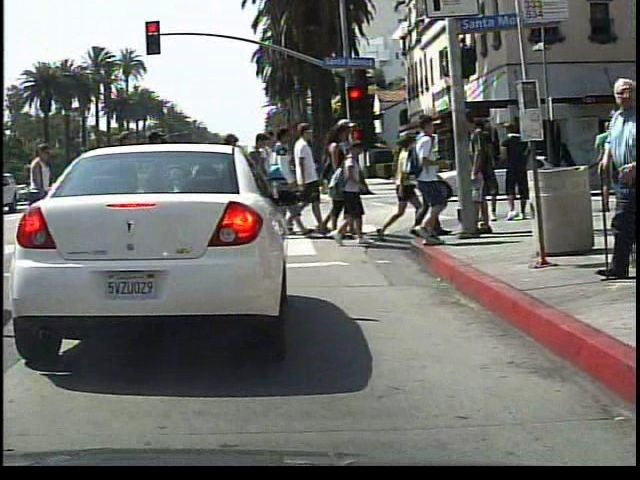person: (570, 74, 639, 287)
